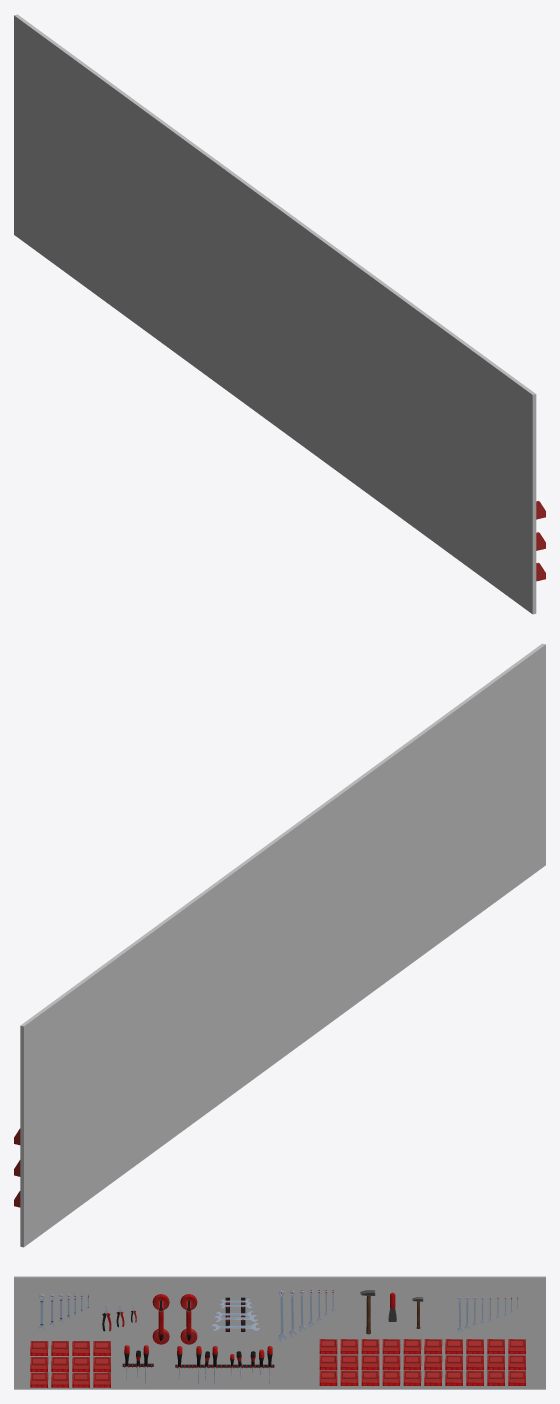
File: CR_DIYBoardA.fbx
3 renders of one model, top to bottom at view 1: azimuth 30°, elevation 25°; view 2: azimuth 150°, elevation 25°; view 3: azimuth 270°, elevation 25°, orthographic. The views are drawn at different scales.
Parts seen in each view (by area): view 1: DIYBoard; view 2: DIYBoard; view 3: DIYBoard.
Boxes of the visible parts, x1,y1,x2,y2 form: DIYBoard: [14, 14, 545, 614]; DIYBoard: [14, 643, 545, 1247]; DIYBoard: [14, 1276, 545, 1389].
Bounding box in the file's own units: 11 × 78.76 × 337.
